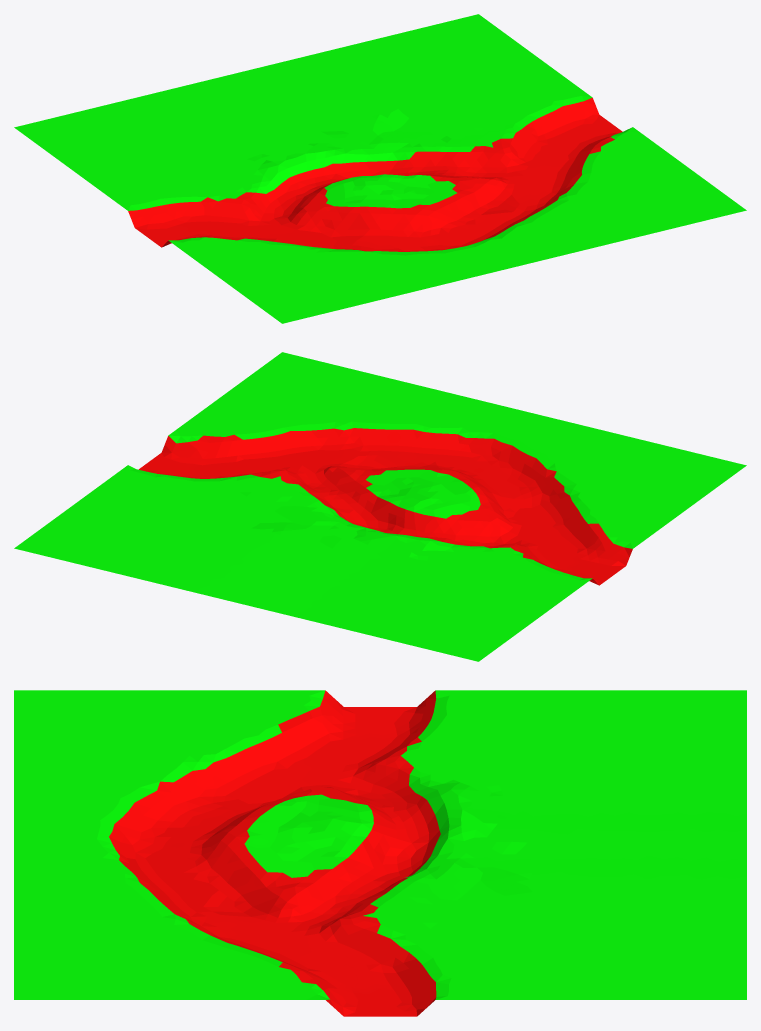
File: RiverBifurcation01.fbx
3 renders of one model, top to bottom at view 1: azimuth 30°, elevation 25°; view 2: azimuth 150°, elevation 25°; view 3: azimuth 270°, elevation 25°, orthographic. The views are drawn at different scales.
Visible parts, largest first — view 1: RiverBifurcation01; view 2: RiverBifurcation01; view 3: RiverBifurcation01.
Part boxes in pixels (x1,y1,x2,y2): RiverBifurcation01: (14, 14, 746, 323); RiverBifurcation01: (14, 352, 746, 661); RiverBifurcation01: (14, 690, 746, 1016).
Size of the model in its own units: 5009 by 213 by 5009.
